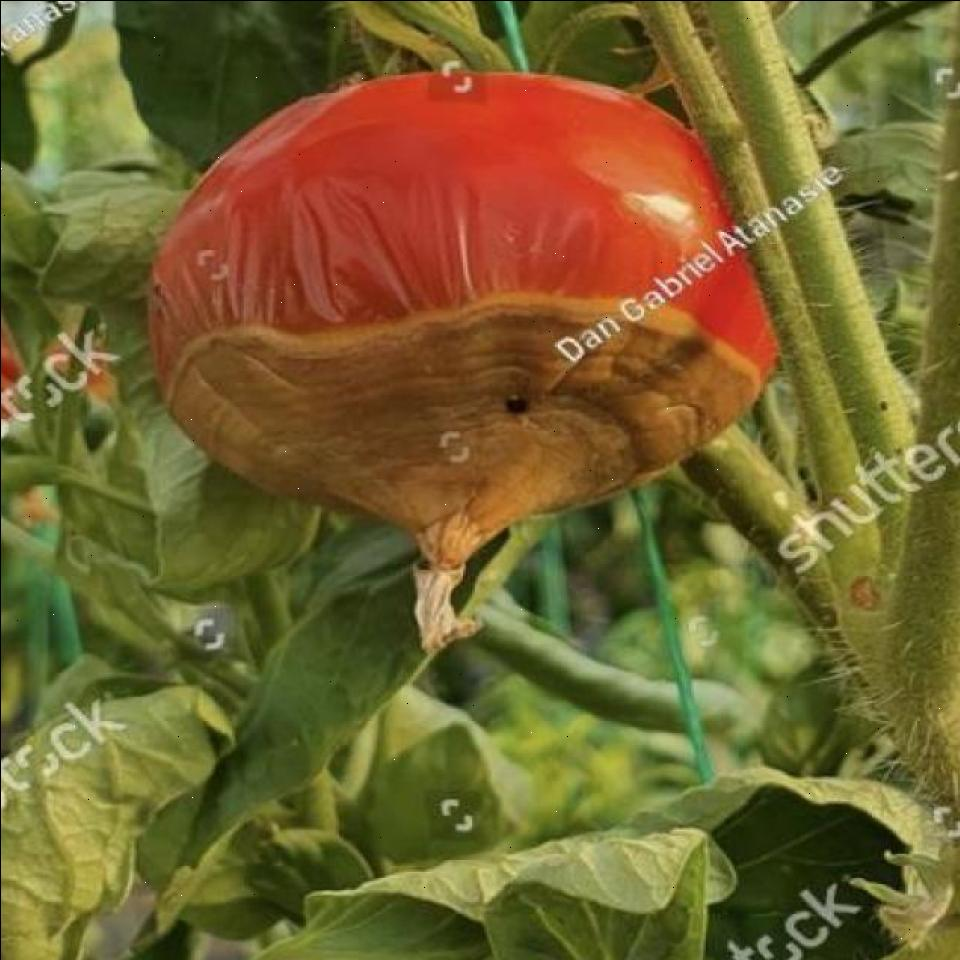Blossom_end_rot: (151, 312, 770, 582)
